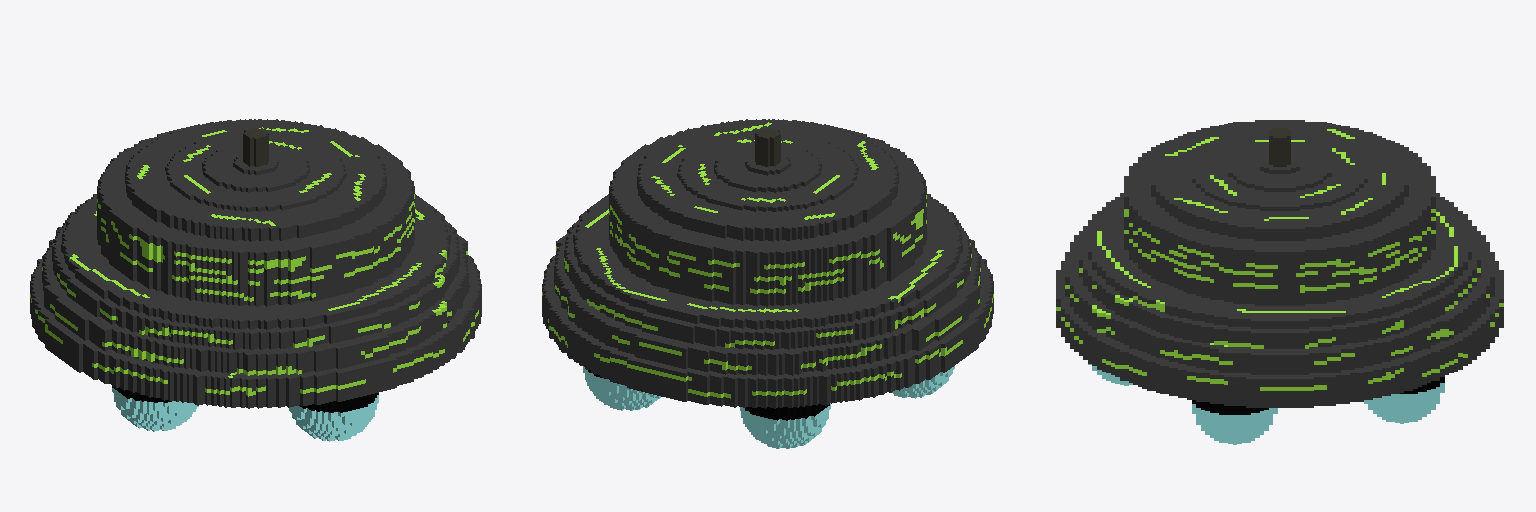
3 renders of one model, left to right at view 1: azimuth 30°, elevation 25°; view 2: azimuth 150°, elevation 25°; view 3: azimuth 270°, elevation 25°, orthographic.
Visible parts, largest first — view 1: object 1; view 2: object 1; view 3: object 1.
Boxes of the visible parts, box(x1,y1,x2,y2) form: object 1: box(30, 119, 481, 441); object 1: box(542, 119, 993, 448); object 1: box(1056, 120, 1503, 444).
Size of the model in its own units: 9.9 by 6 by 9.9.
Materials: 1 (1 with a texture image).